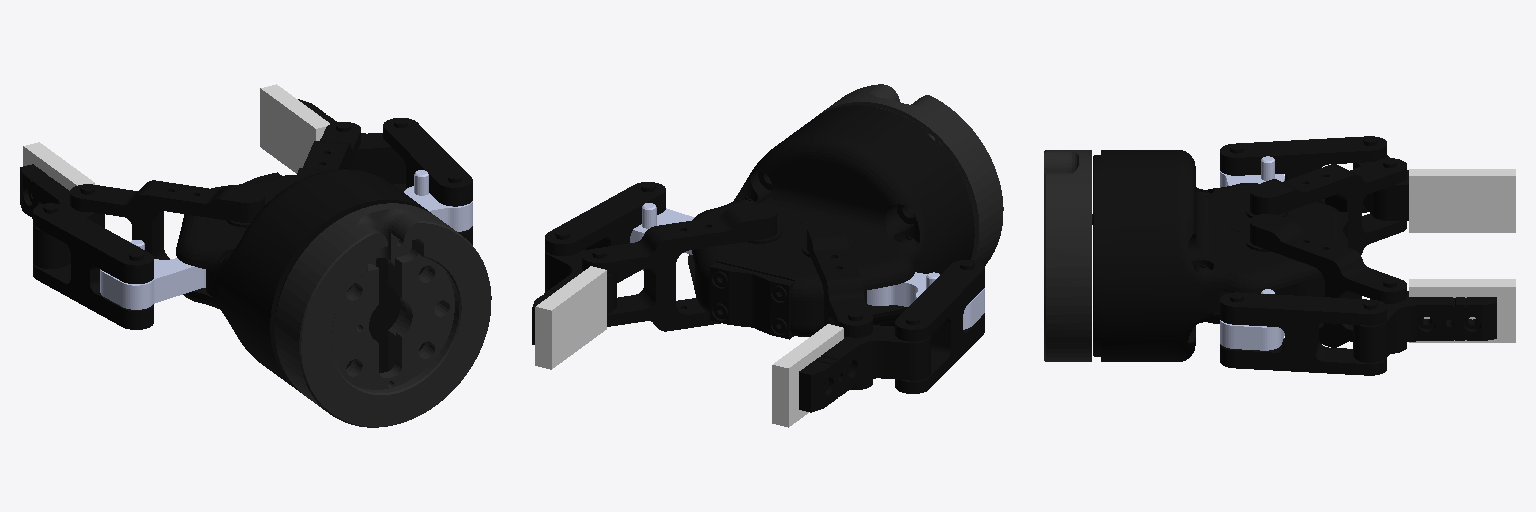
The robot description file, URDF, robot "steve_arm_planning":
<?xml version='1.0' encoding='utf-8'?>
<robot name="steve_arm_planning">
  <link name="base_link">
    <inertial>
      <mass value="200" />
      <origin xyz="0 0 0" />
      <inertia ixx="5.652232699207" ixy="0.009719934438" ixz="1.293988226423" iyy="5.669473158652" iyz="0.007379583694" izz="5.683196351726" />
    </inertial>
    <visual>
      <origin rpy="0 0 -1.571" xyz="0.0 0.0 0.0" />
      <geometry>
        <mesh filename="../meshes/mmo_700/MPO_700_BODY.dae" scale="0.001 0.001 0.001" />
      </geometry>
    </visual>
    <collision>
      <origin rpy="0 0 -1.571" xyz="0. 0. 0." />
      <geometry>
        <mesh filename="../meshes/mmo_700/MPO_700_BODY.dae" scale="0.001 0.001 0.001" />
      </geometry>
    </collision>
  </link>
  <link name="cabinet_link">
    <inertial>
      <mass value="2" />
      <origin rpy="0 0 0" xyz="0 0 0" />
      <inertia ixx="0.457072" ixy="0.0" ixz="0.0" iyy="0.23616" iyz="0.0" izz="0.686" />
    </inertial>
    <visual>
      <origin rpy="0 0 -1.5708" xyz="0 0 0" />
      <geometry>
        <mesh filename="../meshes/mmo_700/cabin.dae" scale="0.001 0.001 0.001" />
      </geometry>
    </visual>
    <collision>
      <origin rpy="0 0 -1.5708" xyz="0 0 0" />
      <geometry>
        <mesh filename="../meshes/mmo_700/cabin.dae" scale="0.001 0.001 0.001" />
      </geometry>
    </collision>
  </link>
  <joint name="cabinet_joint" type="fixed">
    <origin rpy="0 0 0" xyz="0.072 0 0.35" />
    <joint_properties damping="1" friction="1" />
    <parent link="base_link" />
    <child link="cabinet_link" />
  </joint>
  <link name="ur5e_base_link">
    <inertial>
      <origin xyz="0 0 0" rpy="0 0 0" />
      <mass value="0.001" />
      <inertia ixx="1e-07" ixy="0" ixz="0" iyy="1e-07" iyz="0" izz="1e-07" />
    </inertial>
  </link>
  <link name="ur5e_base_link_inertia">
    <visual>
      <origin rpy="0 0 3.141592653589793" xyz="0 0 0" />
      <geometry>
        <mesh filename="../meshes/ur5e/visual/base.dae" />
      </geometry>
    </visual>
    <collision>
      <origin rpy="0 0 3.141592653589793" xyz="0 0 0" />
      <geometry>
        <mesh filename="../meshes/ur5e/collision/base.stl" />
      </geometry>
    </collision>
    <inertial>
      <mass value="4.0" />
      <origin rpy="0 0 0" xyz="0 0 0" />
      <inertia ixx="0.00443333156" ixy="0.0" ixz="0.0" iyy="0.00443333156" iyz="0.0" izz="0.0072" />
    </inertial>
  </link>
  <link name="ur5e_shoulder_link">
    <visual>
      <origin rpy="0 0 3.141592653589793" xyz="0 0 0" />
      <geometry>
        <mesh filename="../meshes/ur5e/visual/shoulder.dae" />
      </geometry>
    </visual>
    <collision>
      <origin rpy="0 0 3.141592653589793" xyz="0 0 0" />
      <geometry>
        <mesh filename="../meshes/ur5e/collision/shoulder.stl" />
      </geometry>
    </collision>
    <inertial>
      <mass value="3.761" />
      <origin rpy="0 0 0" xyz="0.0 -0.00193 -0.02561" />
      <inertia ixx="0.010267499999999999" ixy="0" ixz="0" iyy="0.010267499999999999" iyz="0" izz="0.00666" />
    </inertial>
  </link>
  <link name="ur5e_upper_arm_link">
    <visual>
      <origin rpy="1.5707963267948966 0 -1.5707963267948966" xyz="0 0 0.138" />
      <geometry>
        <mesh filename="../meshes/ur5e/visual/upperarm.dae" />
      </geometry>
    </visual>
    <collision>
      <origin rpy="1.5707963267948966 0 -1.5707963267948966" xyz="0 0 0.138" />
      <geometry>
        <mesh filename="../meshes/ur5e/collision/upperarm.stl" />
      </geometry>
    </collision>
    <inertial>
      <mass value="8.058" />
      <origin rpy="0 1.570796326794897 0" xyz="-0.2125 0.0 0.11336" />
      <inertia ixx="0.13388583541666665" ixy="0" ixz="0" iyy="0.13388583541666665" iyz="0" izz="0.0151074" />
    </inertial>
  </link>
  <link name="ur5e_forearm_link">
    <visual>
      <origin rpy="1.5707963267948966 0 -1.5707963267948966" xyz="0 0 0.007" />
      <geometry>
        <mesh filename="../meshes/ur5e/visual/forearm.dae" />
      </geometry>
    </visual>
    <collision>
      <origin rpy="1.5707963267948966 0 -1.5707963267948966" xyz="0 0 0.007" />
      <geometry>
        <mesh filename="../meshes/ur5e/collision/forearm.stl" />
      </geometry>
    </collision>
    <inertial>
      <mass value="2.846" />
      <origin rpy="0 1.570796326794897 0" xyz="-0.2422 0.0 0.0265" />
      <inertia ixx="0.03120936758333333" ixy="0" ixz="0" iyy="0.03120936758333333" iyz="0" izz="0.004095" />
    </inertial>
  </link>
  <link name="ur5e_wrist_1_link">
    <visual>
      <origin rpy="1.5707963267948966 0 0" xyz="0 0 -0.127" />
      <geometry>
        <mesh filename="../meshes/ur5e/visual/wrist1.dae" />
      </geometry>
    </visual>
    <collision>
      <origin rpy="1.5707963267948966 0 0" xyz="0 0 -0.127" />
      <geometry>
        <mesh filename="../meshes/ur5e/collision/wrist1.stl" />
      </geometry>
    </collision>
    <inertial>
      <mass value="1.37" />
      <origin rpy="0 0 0" xyz="0.0 -0.01634 -0.0018" />
      <inertia ixx="0.0025599" ixy="0" ixz="0" iyy="0.0025599" iyz="0" izz="0.0021942" />
    </inertial>
  </link>
  <link name="ur5e_wrist_2_link">
    <visual>
      <origin rpy="0 0 0" xyz="0 0 -0.0997" />
      <geometry>
        <mesh filename="../meshes/ur5e/visual/wrist2.dae" />
      </geometry>
    </visual>
    <collision>
      <origin rpy="0 0 0" xyz="0 0 -0.0997" />
      <geometry>
        <mesh filename="../meshes/ur5e/collision/wrist2.stl" />
      </geometry>
    </collision>
    <inertial>
      <mass value="1.3" />
      <origin rpy="0 0 0" xyz="0.0 0.01634 -0.0018" />
      <inertia ixx="0.0025599" ixy="0" ixz="0" iyy="0.0025599" iyz="0" izz="0.0021942" />
    </inertial>
  </link>
  <link name="ur5e_wrist_3_link">
    <visual>
      <origin rpy="1.5707963267948966 0 0" xyz="0 0 -0.0989" />
      <geometry>
        <mesh filename="../meshes/ur5e/visual/wrist3.dae" />
      </geometry>
    </visual>
    <collision>
      <origin rpy="1.5707963267948966 0 0" xyz="0 0 -0.0989" />
      <geometry>
        <mesh filename="../meshes/ur5e/collision/wrist3.stl" />
      </geometry>
    </collision>
    <inertial>
      <mass value="0.365" />
      <origin rpy="0 0 0" xyz="0.0 0.0 -0.001159" />
      <inertia ixx="9.890414008333333e-05" ixy="0" ixz="0" iyy="9.890414008333333e-05" iyz="0" izz="0.0001321171875" />
    </inertial>
  </link>
  <joint name="ur5e_base_joint" type="fixed">
    <origin rpy="0.0 0.0 0.0" xyz="0.133 0.0 0.416" />
    <parent link="cabinet_link" />
    <child link="ur5e_base_link" />
  </joint>
  <joint name="ur5e_base_link_base_link_inertia" type="fixed">
    <parent link="ur5e_base_link" />
    <child link="ur5e_base_link_inertia" />
    <origin rpy="0 0 3.141592653589793" xyz="0 0 0" />
  </joint>
  <joint name="ur5e_shoulder_pan_joint" type="revolute">
    <parent link="ur5e_base_link_inertia" />
    <child link="ur5e_shoulder_link" />
    <origin rpy="0 0 0" xyz="0 0 0.1625" />
    <axis xyz="0 0 1" />
    <limit effort="150.0" lower="-6.283185307179586" upper="6.283185307179586" velocity="3.141592653589793" />
    <dynamics damping="0" friction="0" />
  </joint>
  <joint name="ur5e_shoulder_lift_joint" type="revolute">
    <parent link="ur5e_shoulder_link" />
    <child link="ur5e_upper_arm_link" />
    <origin rpy="1.570796327 0 0" xyz="0 0 0" />
    <axis xyz="0 0 1" />
    <limit effort="150.0" lower="-6.283185307179586" upper="6.283185307179586" velocity="3.141592653589793" />
    <dynamics damping="0" friction="0" />
  </joint>
  <joint name="ur5e_elbow_joint" type="revolute">
    <parent link="ur5e_upper_arm_link" />
    <child link="ur5e_forearm_link" />
    <origin rpy="0 0 0" xyz="-0.425 0 0" />
    <axis xyz="0 0 1" />
    <limit effort="150.0" lower="-3.141592653589793" upper="3.141592653589793" velocity="3.141592653589793" />
    <dynamics damping="0" friction="0" />
  </joint>
  <joint name="ur5e_wrist_1_joint" type="revolute">
    <parent link="ur5e_forearm_link" />
    <child link="ur5e_wrist_1_link" />
    <origin rpy="0 0 0" xyz="-0.3922 0 0.1333" />
    <axis xyz="0 0 1" />
    <limit effort="28.0" lower="-6.283185307179586" upper="6.283185307179586" velocity="3.141592653589793" />
    <dynamics damping="0" friction="0" />
  </joint>
  <joint name="ur5e_wrist_2_joint" type="revolute">
    <parent link="ur5e_wrist_1_link" />
    <child link="ur5e_wrist_2_link" />
    <origin rpy="1.570796327 0 0" xyz="0 -0.0997 -2.044881182297852e-11" />
    <axis xyz="0 0 1" />
    <limit effort="28.0" lower="-6.283185307179586" upper="6.283185307179586" velocity="3.141592653589793" />
    <dynamics damping="0" friction="0" />
  </joint>
  <joint name="ur5e_wrist_3_joint" type="revolute">
    <parent link="ur5e_wrist_2_link" />
    <child link="ur5e_wrist_3_link" />
    <origin rpy="1.570796326589793 3.141592653589793 3.141592653589793" xyz="0 0.0996 -2.042830148012698e-11" />
    <axis xyz="0 0 1" />
    <limit effort="28.0" lower="-6.283185307179586" upper="6.283185307179586" velocity="3.141592653589793" />
    <dynamics damping="0" friction="0" />
  </joint>
  <link name="ur5e_ft_frame">
    <inertial>
      <origin xyz="0 0 0" rpy="0 0 0" />
      <mass value="0.001" />
      <inertia ixx="1e-07" ixy="0" ixz="0" iyy="1e-07" iyz="0" izz="1e-07" />
    </inertial>
  </link>
  <joint name="ur5e_wrist_3_link_ft_frame" type="fixed">
    <parent link="ur5e_wrist_3_link" />
    <child link="ur5e_ft_frame" />
    <origin rpy="3.141592653589793 0 0" xyz="0 0 0" />
  </joint>
  <link name="ur5e_base">
    <inertial>
      <origin xyz="0 0 0" rpy="0 0 0" />
      <mass value="0.001" />
      <inertia ixx="1e-07" ixy="0" ixz="0" iyy="1e-07" iyz="0" izz="1e-07" />
    </inertial>
  </link>
  <joint name="ur5e_base_link_base_fixed_joint" type="fixed">
    <origin rpy="0 0 3.141592653589793" xyz="0 0 0" />
    <parent link="ur5e_base_link" />
    <child link="ur5e_base" />
  </joint>
  <link name="ur5e_flange">
    <inertial>
      <origin xyz="0 0 0" rpy="0 0 0" />
      <mass value="0.001" />
      <inertia ixx="1e-07" ixy="0" ixz="0" iyy="1e-07" iyz="0" izz="1e-07" />
    </inertial>
  </link>
  <joint name="ur5e_wrist_3_flange" type="fixed">
    <parent link="ur5e_wrist_3_link" />
    <child link="ur5e_flange" />
    <origin rpy="0 -1.5707963267948966 -1.5707963267948966" xyz="0 0 0" />
  </joint>
  <link name="ur5e_tool0">
    <inertial>
      <origin xyz="0 0 0" rpy="0 0 0" />
      <mass value="0.001" />
      <inertia ixx="1e-07" ixy="0" ixz="0" iyy="1e-07" iyz="0" izz="1e-07" />
    </inertial>
  </link>
  <joint name="ur5e_flange_tool0" type="fixed">
    <origin rpy="1.5707963267948966 0 1.5707963267948966" xyz="0 0 0" />
    <parent link="ur5e_flange" />
    <child link="ur5e_tool0" />
  </joint>
  <material name="black">
    <color rgba="0.2 0.2 0.2 1" />
  </material>
  <joint name="ur5e_tool0_robotiq_coupling_joint" type="fixed">
    <parent link="ur5e_tool0" />
    <child link="robotiq_coupling" />
    <origin rpy="0.0 0.0 1.5707963267948966" xyz="0.0 0.0 0.0" />
  </joint>
  <link name="robotiq_coupling" type="fixed">
    <visual name="wrist_mesh">
      <origin rpy="0 0 0" xyz="0 0 0" />
      <geometry>
        <mesh filename="../meshes/robotiq_2f_85/visual/robotiq_gripper_coupling_17mm.stl" scale="0.001 0.001 0.001" />
      </geometry>
      <material name="black" />
    </visual>
    <collision>
      <origin rpy="0 0 0" xyz="0 0 0" />
      <geometry>
        <mesh filename="../meshes/robotiq_2f_85/visual/robotiq_gripper_coupling_17mm.stl" scale="0.001 0.001 0.001" />
      </geometry>
    </collision>
    <inertial>
      <mass value="0.002" />
      <inertia ixx="1e-06" ixy="0" ixz="0" iyy="1e-06" iyz="0" izz="1e-06" />
    </inertial>
  </link>
  <joint name="robotiq_coupling_base_joint" type="fixed">
    <parent link="robotiq_coupling" />
    <child link="robotiq_arg2f_base_link" />
    <origin rpy="0.0 0.0 0.0" xyz="0.0 0.0 0.0085" />
  </joint>
  <link name="robotiq_arg2f_base_link">
    <inertial>
      <origin rpy="0 0 0" xyz="8.625E-08 -4.6583E-06 0.03145" />
      <mass value="0.22652" />
      <inertia ixx="0.00020005" ixy="-4.2442E-10" ixz="-2.9069E-10" iyy="0.00017832" iyz="-3.4402E-08" izz="0.00013478" />
    </inertial>
    <visual>
      <origin rpy="0 0 0" xyz="0 0 0" />
      <geometry>
        <mesh filename="../meshes/robotiq_2f_85/visual/robotiq_arg2f_85_base_link.dae" scale="0.001 0.001 0.001" />
      </geometry>
      <material name="robotiq_arg2f_base_link_material">
        <color rgba="0.1 0.1 0.1 1" />
      </material>
    </visual>
    <collision>
      <origin rpy="0 0 0" xyz="0 0 0" />
      <geometry>
        <mesh filename="../meshes/robotiq_2f_85/collision/robotiq_arg2f_base_link.stl" />
      </geometry>
    </collision>
  </link>
  <link name="left_outer_knuckle">
    <inertial>
      <mass value="0.002" />
      <inertia ixx="1e-06" ixy="0" ixz="0" iyy="1e-06" iyz="0" izz="1e-06" />
    </inertial>
    <visual>
      <origin rpy="0 0 0" xyz="0 0 0" />
      <geometry>
        <mesh filename="../meshes/robotiq_2f_85/visual/robotiq_arg2f_85_outer_knuckle.dae" scale="0.001 0.001 0.001" />
      </geometry>
      <material name="left_outer_knuckle_material">
        <color rgba="0.792156862745098 0.819607843137255 0.933333333333333 1" />
      </material>
    </visual>
    <collision>
      <origin rpy="0 0 0" xyz="0 0 0" />
      <geometry>
        <mesh filename="../meshes/robotiq_2f_85/collision/robotiq_arg2f_85_outer_knuckle.dae" scale="0.001 0.001 0.001" />
      </geometry>
    </collision>
  </link>
  <link name="left_outer_finger">
    <inertial>
      <mass value="0.002" />
      <inertia ixx="1e-06" ixy="0" ixz="0" iyy="1e-06" iyz="0" izz="1e-06" />
    </inertial>
    <visual>
      <origin rpy="0 0 0" xyz="0 0 0" />
      <geometry>
        <mesh filename="../meshes/robotiq_2f_85/visual/robotiq_arg2f_85_outer_finger.dae" scale="0.001 0.001 0.001" />
      </geometry>
      <material name="left_outer_finger_material">
        <color rgba="0.1 0.1 0.1 1" />
      </material>
    </visual>
    <collision>
      <origin rpy="0 0 0" xyz="0 0 0" />
      <geometry>
        <mesh filename="../meshes/robotiq_2f_85/collision/robotiq_arg2f_85_outer_finger.dae" scale="0.001 0.001 0.001" />
      </geometry>
    </collision>
  </link>
  <link name="left_inner_finger">
    <inertial>
      <mass value="0.002" />
      <inertia ixx="1e-06" ixy="0" ixz="0" iyy="1e-06" iyz="0" izz="1e-06" />
    </inertial>
    <visual>
      <origin rpy="0 0 0" xyz="0 0 0" />
      <geometry>
        <mesh filename="../meshes/robotiq_2f_85/visual/robotiq_arg2f_85_inner_finger.dae" scale="0.001 0.001 0.001" />
      </geometry>
      <material name="left_inner_finger_material">
        <color rgba="0.1 0.1 0.1 1" />
      </material>
    </visual>
    <collision>
      <origin rpy="0 0 0" xyz="0 0 0" />
      <geometry>
        <mesh filename="../meshes/robotiq_2f_85/collision/robotiq_arg2f_85_inner_finger.dae" scale="0.001 0.001 0.001" />
      </geometry>
    </collision>
  </link>
  <link name="left_inner_finger_pad">
    <inertial>
      <mass value="0.002" />
      <inertia ixx="1e-06" ixy="0" ixz="0" iyy="1e-06" iyz="0" izz="1e-06" />
    </inertial>
    <visual>
      <origin rpy="0 0 0" xyz="0 0 0" />
      <geometry>
        <box size="0.022 0.00635 0.0375" />
      </geometry>
      <material name="left_inner_finger_pad_material">
        <color rgba="0.9 0.9 0.9 1" />
      </material>
    </visual>
    <collision>
      <origin rpy="0 0 0" xyz="0 0 0" />
      <geometry>
        <box size="0.022 0.00635 0.0375" />
      </geometry>
    </collision>
  </link>
  <link name="left_inner_knuckle">
    <inertial>
      <mass value="0.002" />
      <inertia ixx="1e-06" ixy="0" ixz="0" iyy="1e-06" iyz="0" izz="1e-06" />
    </inertial>
    <visual>
      <origin rpy="0 0 0" xyz="0 0 0" />
      <geometry>
        <mesh filename="../meshes/robotiq_2f_85/visual/robotiq_arg2f_85_inner_knuckle.dae" scale="0.001 0.001 0.001" />
      </geometry>
      <material name="left_inner_knuckle_material">
        <color rgba="0.1 0.1 0.1 1" />
      </material>
    </visual>
    <collision>
      <origin rpy="0 0 0" xyz="0 0 0" />
      <geometry>
        <mesh filename="../meshes/robotiq_2f_85/collision/robotiq_arg2f_85_inner_knuckle.dae" scale="0.001 0.001 0.001" />
      </geometry>
    </collision>
  </link>
  <link name="right_outer_knuckle">
    <inertial>
      <mass value="0.002" />
      <inertia ixx="1e-06" ixy="0" ixz="0" iyy="1e-06" iyz="0" izz="1e-06" />
    </inertial>
    <visual>
      <origin rpy="0 0 0" xyz="0 0 0" />
      <geometry>
        <mesh filename="../meshes/robotiq_2f_85/visual/robotiq_arg2f_85_outer_knuckle.dae" scale="0.001 0.001 0.001" />
      </geometry>
      <material name="right_outer_knuckle_material">
        <color rgba="0.792156862745098 0.819607843137255 0.933333333333333 1" />
      </material>
    </visual>
    <collision>
      <origin rpy="0 0 0" xyz="0 0 0" />
      <geometry>
        <mesh filename="../meshes/robotiq_2f_85/collision/robotiq_arg2f_85_outer_knuckle.dae" scale="0.001 0.001 0.001" />
      </geometry>
    </collision>
  </link>
  <link name="right_outer_finger">
    <inertial>
      <mass value="0.002" />
      <inertia ixx="1e-06" ixy="0" ixz="0" iyy="1e-06" iyz="0" izz="1e-06" />
    </inertial>
    <visual>
      <origin rpy="0 0 0" xyz="0 0 0" />
      <geometry>
        <mesh filename="../meshes/robotiq_2f_85/visual/robotiq_arg2f_85_outer_finger.dae" scale="0.001 0.001 0.001" />
      </geometry>
      <material name="right_outer_finger_material">
        <color rgba="0.1 0.1 0.1 1" />
      </material>
    </visual>
    <collision>
      <origin rpy="0 0 0" xyz="0 0 0" />
      <geometry>
        <mesh filename="../meshes/robotiq_2f_85/collision/robotiq_arg2f_85_outer_finger.dae" scale="0.001 0.001 0.001" />
      </geometry>
    </collision>
  </link>
  <link name="right_inner_finger">
    <inertial>
      <mass value="0.002" />
      <inertia ixx="1e-06" ixy="0" ixz="0" iyy="1e-06" iyz="0" izz="1e-06" />
    </inertial>
    <visual>
      <origin rpy="0 0 0" xyz="0 0 0" />
      <geometry>
        <mesh filename="../meshes/robotiq_2f_85/visual/robotiq_arg2f_85_inner_finger.dae" scale="0.001 0.001 0.001" />
      </geometry>
      <material name="right_inner_finger_material">
        <color rgba="0.1 0.1 0.1 1" />
      </material>
    </visual>
    <collision>
      <origin rpy="0 0 0" xyz="0 0 0" />
      <geometry>
        <mesh filename="../meshes/robotiq_2f_85/collision/robotiq_arg2f_85_inner_finger.dae" scale="0.001 0.001 0.001" />
      </geometry>
    </collision>
  </link>
  <link name="right_inner_finger_pad">
    <inertial>
      <mass value="0.002" />
      <inertia ixx="1e-06" ixy="0" ixz="0" iyy="1e-06" iyz="0" izz="1e-06" />
    </inertial>
    <visual>
      <origin rpy="0 0 0" xyz="0 0 0" />
      <geometry>
        <box size="0.022 0.00635 0.0375" />
      </geometry>
      <material name="right_inner_finger_pad_material">
        <color rgba="0.9 0.9 0.9 1" />
      </material>
    </visual>
    <collision>
      <origin rpy="0 0 0" xyz="0 0 0" />
      <geometry>
        <box size="0.022 0.00635 0.0375" />
      </geometry>
    </collision>
  </link>
  <link name="right_inner_knuckle">
    <inertial>
      <mass value="0.002" />
      <inertia ixx="1e-06" ixy="0" ixz="0" iyy="1e-06" iyz="0" izz="1e-06" />
    </inertial>
    <visual>
      <origin rpy="0 0 0" xyz="0 0 0" />
      <geometry>
        <mesh filename="../meshes/robotiq_2f_85/visual/robotiq_arg2f_85_inner_knuckle.dae" scale="0.001 0.001 0.001" />
      </geometry>
      <material name="right_inner_knuckle_material">
        <color rgba="0.1 0.1 0.1 1" />
      </material>
    </visual>
    <collision>
      <origin rpy="0 0 0" xyz="0 0 0" />
      <geometry>
        <mesh filename="../meshes/robotiq_2f_85/collision/robotiq_arg2f_85_inner_knuckle.dae" scale="0.001 0.001 0.001" />
      </geometry>
    </collision>
  </link>
  <joint name="finger_joint" type="fixed">
    <origin rpy="0 0 3.141592653589793" xyz="0 -0.0306011 0.054904" />
    <parent link="robotiq_arg2f_base_link" />
    <child link="left_outer_knuckle" />
  </joint>
  <joint name="left_outer_finger_joint" type="fixed">
    <origin rpy="0 0 0" xyz="0 0.0315 -0.0041" />
    <parent link="left_outer_knuckle" />
    <child link="left_outer_finger" />
    <axis xyz="1 0 0" />
  </joint>
  <joint name="left_inner_knuckle_joint" type="fixed">
    <origin rpy="0 0 3.141592653589793" xyz="0 -0.0127 0.06142" />
    <parent link="robotiq_arg2f_base_link" />
    <child link="left_inner_knuckle" />
  </joint>
  <joint name="left_inner_finger_joint" type="fixed">
    <origin rpy="0 0 0" xyz="0 0.0061 0.0471" />
    <parent link="left_outer_finger" />
    <child link="left_inner_finger" />
  </joint>
  <joint name="left_inner_finger_pad_joint" type="fixed">
    <origin rpy="0 0 0" xyz="0 -0.0220203446692936 0.03242" />
    <parent link="left_inner_finger" />
    <child link="left_inner_finger_pad" />
    <axis xyz="0 0 1" />
  </joint>
  <joint name="right_outer_knuckle_joint" type="fixed">
    <origin rpy="0 0 0" xyz="0 0.0306011 0.054904" />
    <parent link="robotiq_arg2f_base_link" />
    <child link="right_outer_knuckle" />
  </joint>
  <joint name="right_outer_finger_joint" type="fixed">
    <origin rpy="0 0 0" xyz="0 0.0315 -0.0041" />
    <parent link="right_outer_knuckle" />
    <child link="right_outer_finger" />
    <axis xyz="1 0 0" />
  </joint>
  <joint name="right_inner_knuckle_joint" type="fixed">
    <origin rpy="0 0 0.0" xyz="0 0.0127 0.06142" />
    <parent link="robotiq_arg2f_base_link" />
    <child link="right_inner_knuckle" />
  </joint>
  <joint name="right_inner_finger_joint" type="fixed">
    <origin rpy="0 0 0" xyz="0 0.0061 0.0471" />
    <parent link="right_outer_finger" />
    <child link="right_inner_finger" />
  </joint>
  <joint name="right_inner_finger_pad_joint" type="fixed">
    <origin rpy="0 0 0" xyz="0 -0.0220203446692936 0.03242" />
    <parent link="right_inner_finger" />
    <child link="right_inner_finger_pad" />
    <axis xyz="0 0 1" />
  </joint>
</robot>

--- Render facts (derived) ---
Views: 3 orthographic renders of the robot side by side, from view 1: azimuth 30°, elevation 25°; view 2: azimuth 150°, elevation 25°; view 3: azimuth 270°, elevation 25°.
Model steve_arm_planning with 26 links and 25 joints (6 revolute, 19 fixed), rooted at base_link, posed all joints at 0.
Visible links, largest first — view 1: robotiq_coupling, robotiq_arg2f_base_link, left_outer_finger, left_inner_knuckle, right_outer_finger, right_inner_finger_pad, left_outer_knuckle, left_inner_finger, right_inner_knuckle, right_inner_finger, right_outer_knuckle, left_inner_finger_pad; view 2: robotiq_arg2f_base_link, right_inner_knuckle, robotiq_coupling, left_outer_finger, left_inner_finger, right_inner_finger_pad, left_inner_knuckle, right_outer_finger, left_inner_finger_pad, left_outer_knuckle, right_inner_finger, right_outer_knuckle; view 3: robotiq_arg2f_base_link, robotiq_coupling, right_outer_finger, left_inner_finger_pad, left_inner_knuckle, right_inner_knuckle, right_inner_finger, left_outer_finger, right_inner_finger_pad, right_outer_knuckle, left_inner_finger, left_outer_knuckle.
Link boxes in pixels (x1,y1,x2,y2): robotiq_coupling: (275, 203, 491, 427); robotiq_arg2f_base_link: (176, 169, 430, 392); left_outer_finger: (33, 203, 153, 329); left_inner_knuckle: (70, 180, 264, 259); right_outer_finger: (383, 118, 472, 244); right_inner_finger_pad: (260, 84, 329, 173); left_outer_knuckle: (100, 240, 205, 309); left_inner_finger: (20, 164, 104, 268); right_inner_knuckle: (295, 122, 360, 182); right_inner_finger: (298, 99, 405, 184); right_outer_knuckle: (404, 170, 472, 231); left_inner_finger_pad: (23, 142, 94, 190); robotiq_arg2f_base_link: (688, 105, 974, 339); right_inner_knuckle: (582, 204, 776, 331); robotiq_coupling: (816, 84, 1003, 265); left_outer_finger: (895, 260, 984, 393); left_inner_finger: (799, 325, 930, 412); right_inner_finger_pad: (535, 266, 606, 369); left_inner_knuckle: (807, 220, 872, 389); right_outer_finger: (545, 182, 665, 292); left_inner_finger_pad: (772, 324, 843, 427); left_outer_knuckle: (867, 272, 984, 329); right_inner_finger: (532, 249, 616, 344); right_outer_knuckle: (630, 203, 694, 270); robotiq_arg2f_base_link: (1092, 150, 1347, 361); robotiq_coupling: (1044, 150, 1091, 361); right_outer_finger: (1220, 292, 1386, 375); left_inner_finger_pad: (1409, 169, 1515, 232); left_inner_knuckle: (1250, 158, 1406, 254); right_inner_knuckle: (1250, 214, 1406, 353); right_inner_finger: (1353, 291, 1496, 362); left_outer_finger: (1220, 136, 1386, 212); right_inner_finger_pad: (1409, 279, 1515, 342); right_outer_knuckle: (1220, 289, 1284, 350); left_inner_finger: (1353, 155, 1408, 220); left_outer_knuckle: (1220, 156, 1284, 187).
Size in the robot's own frame: 0.1484 by 0.1661 by 0.075 metres.
10 mesh visuals loaded from 15 distinct referenced files (1 binary STL, 5 Collada DAE); not drawn: 9 (reference not matched to a file when rendering).
